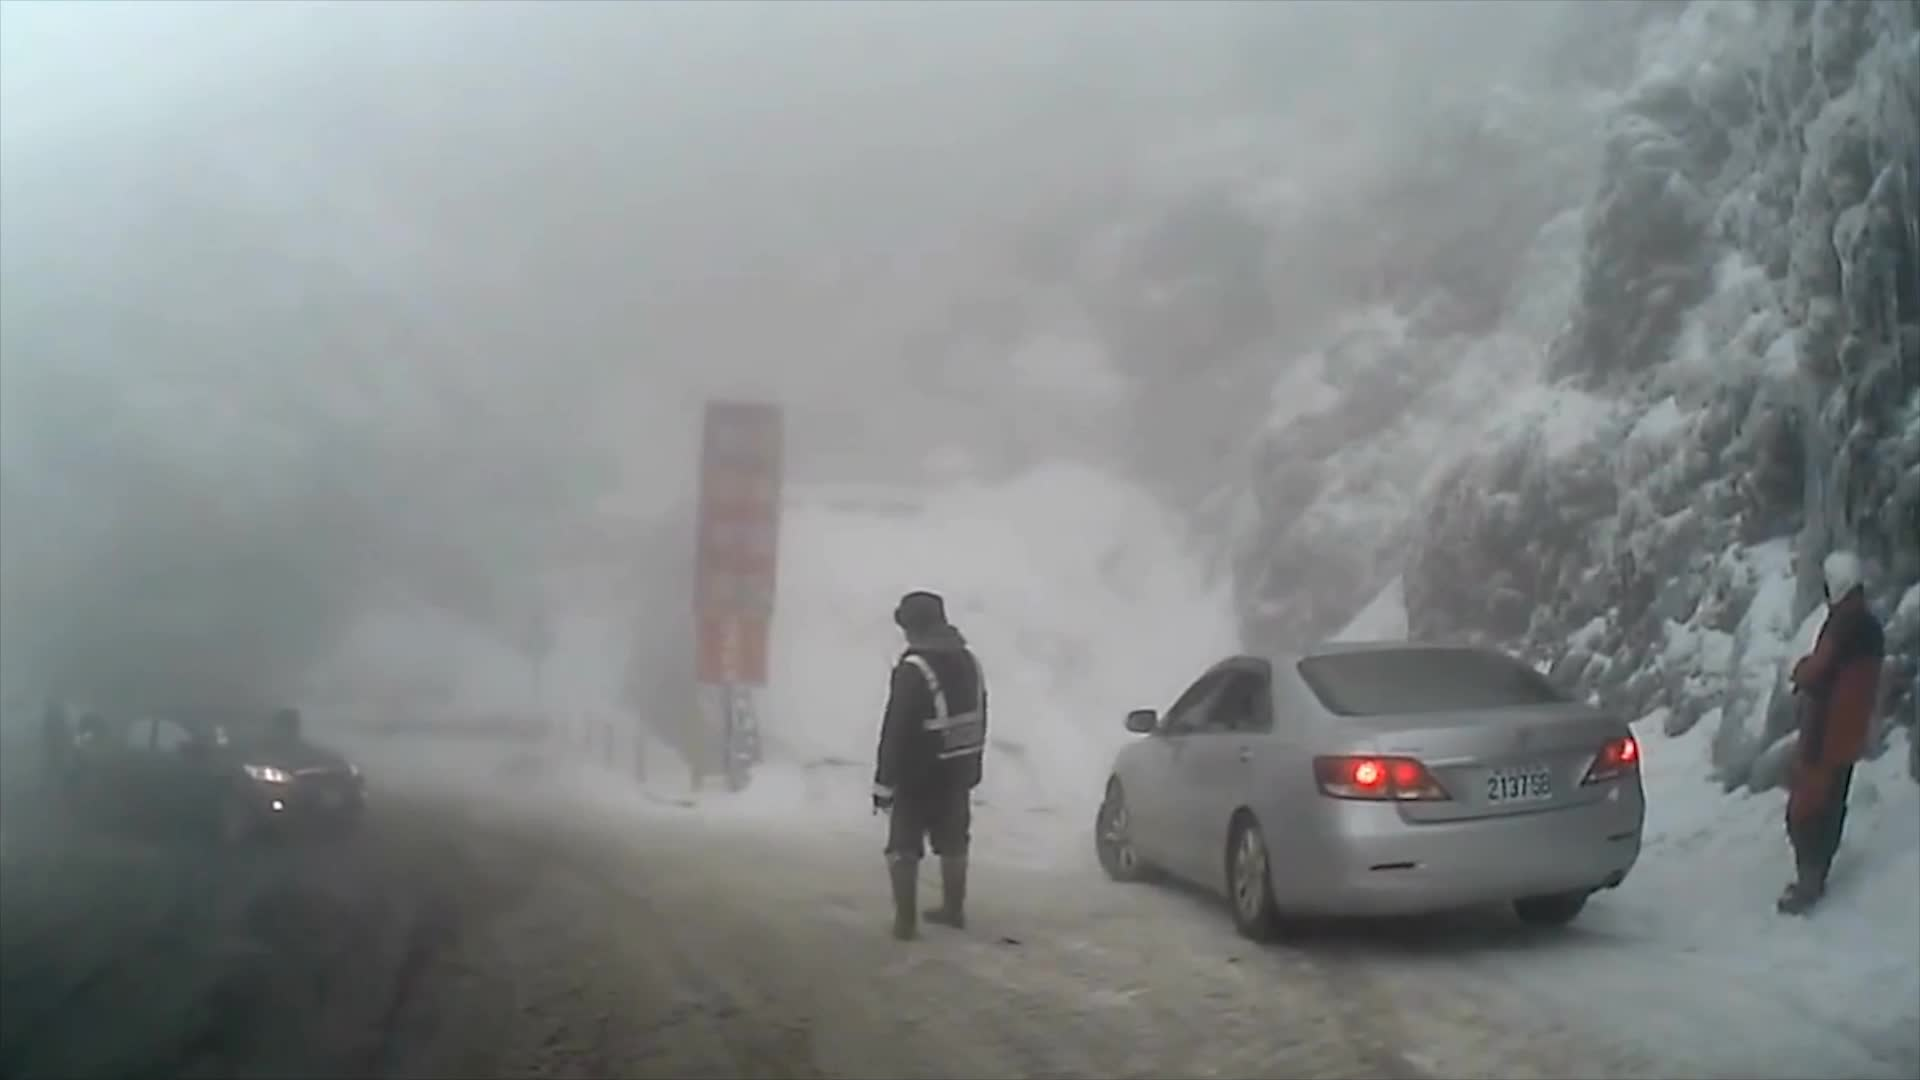pedestrian: (1774, 548, 1891, 918), (876, 591, 988, 943)
vehicle: (1093, 639, 1644, 942), (84, 704, 362, 854)
